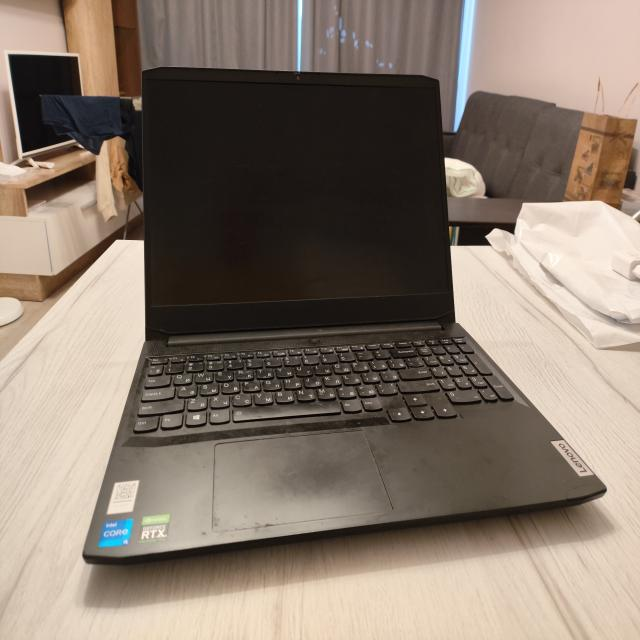chip: (559, 473, 607, 505)
other: (194, 508, 282, 539), (116, 433, 203, 454), (207, 446, 223, 507), (378, 382, 413, 408)
